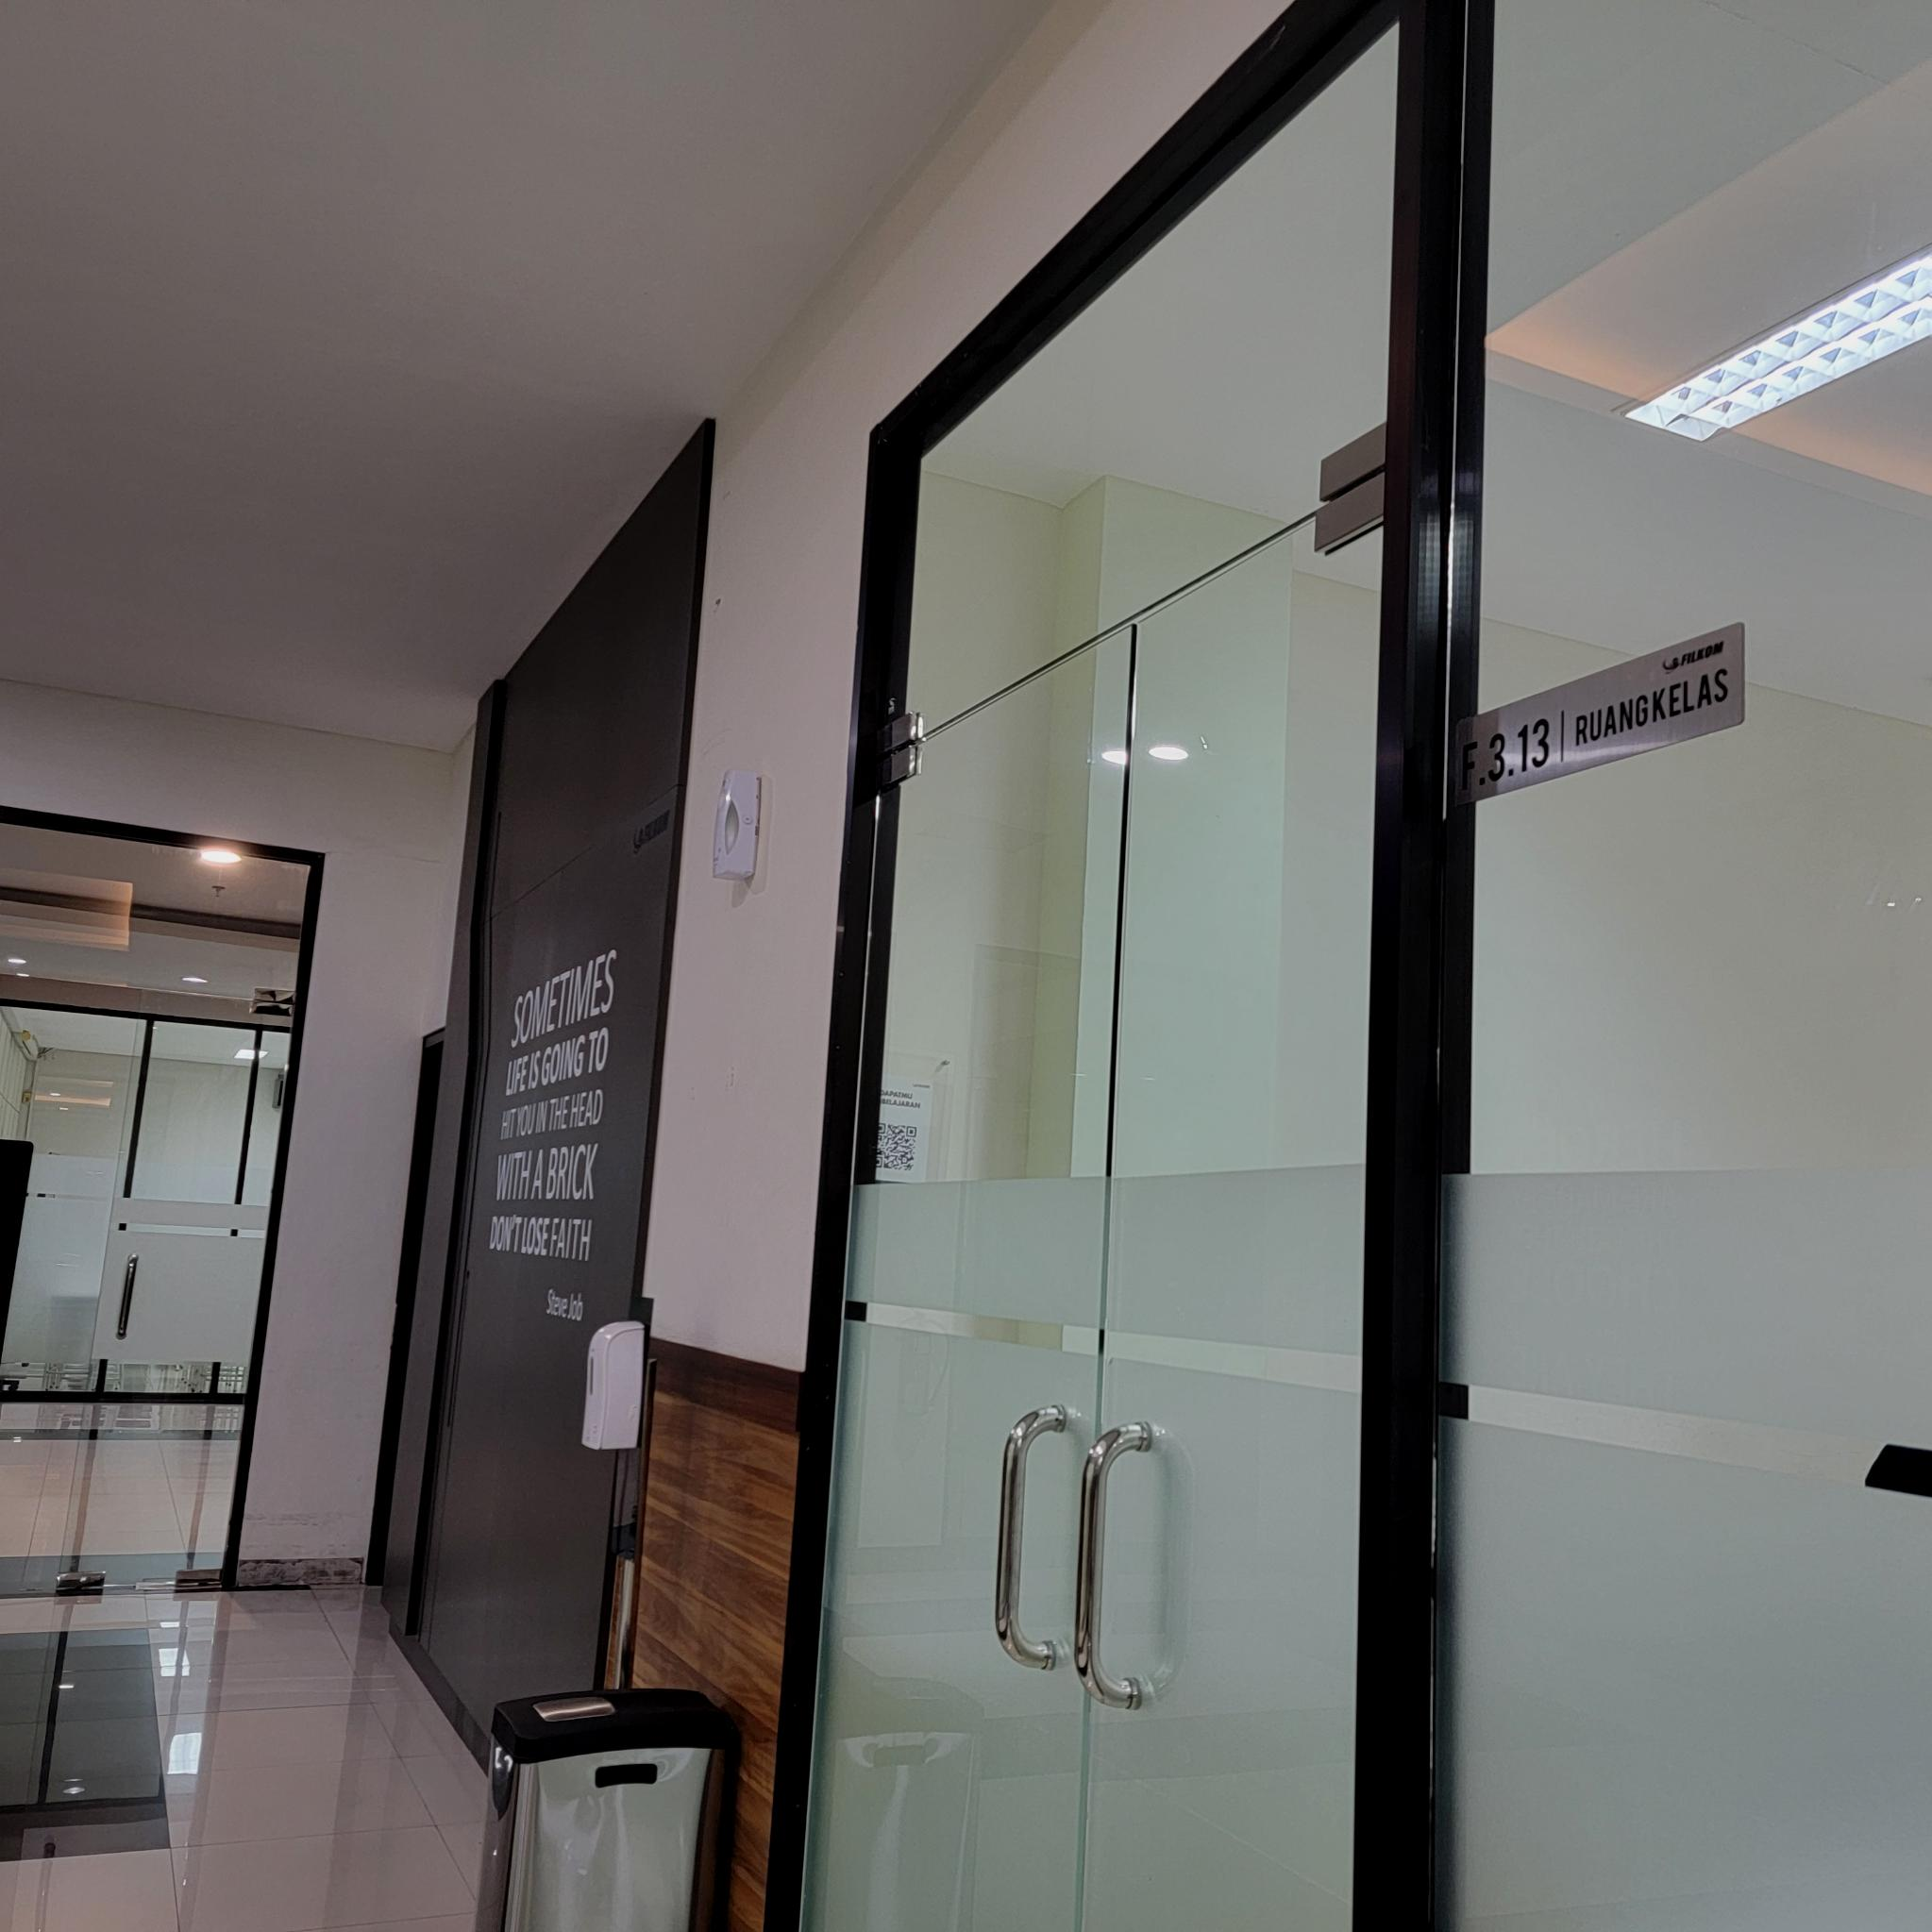plate: (1453, 621, 1746, 807)
